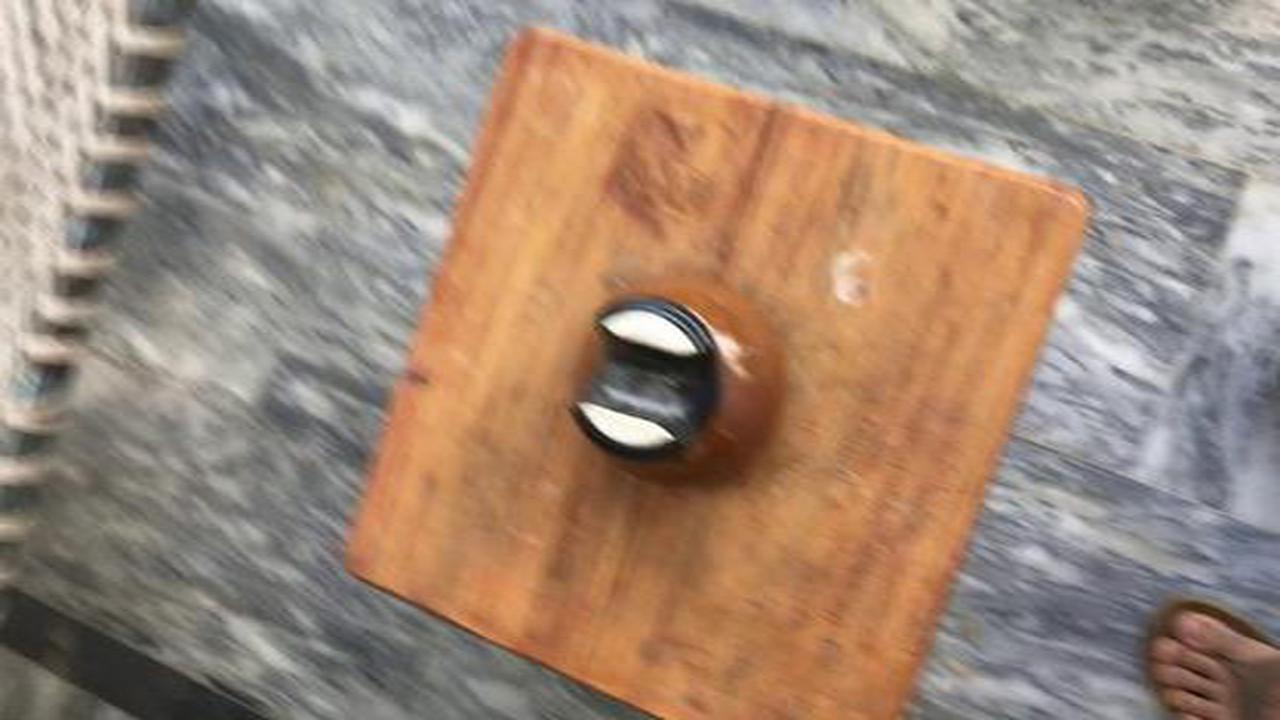insulator_pin: (533, 264, 813, 497)
